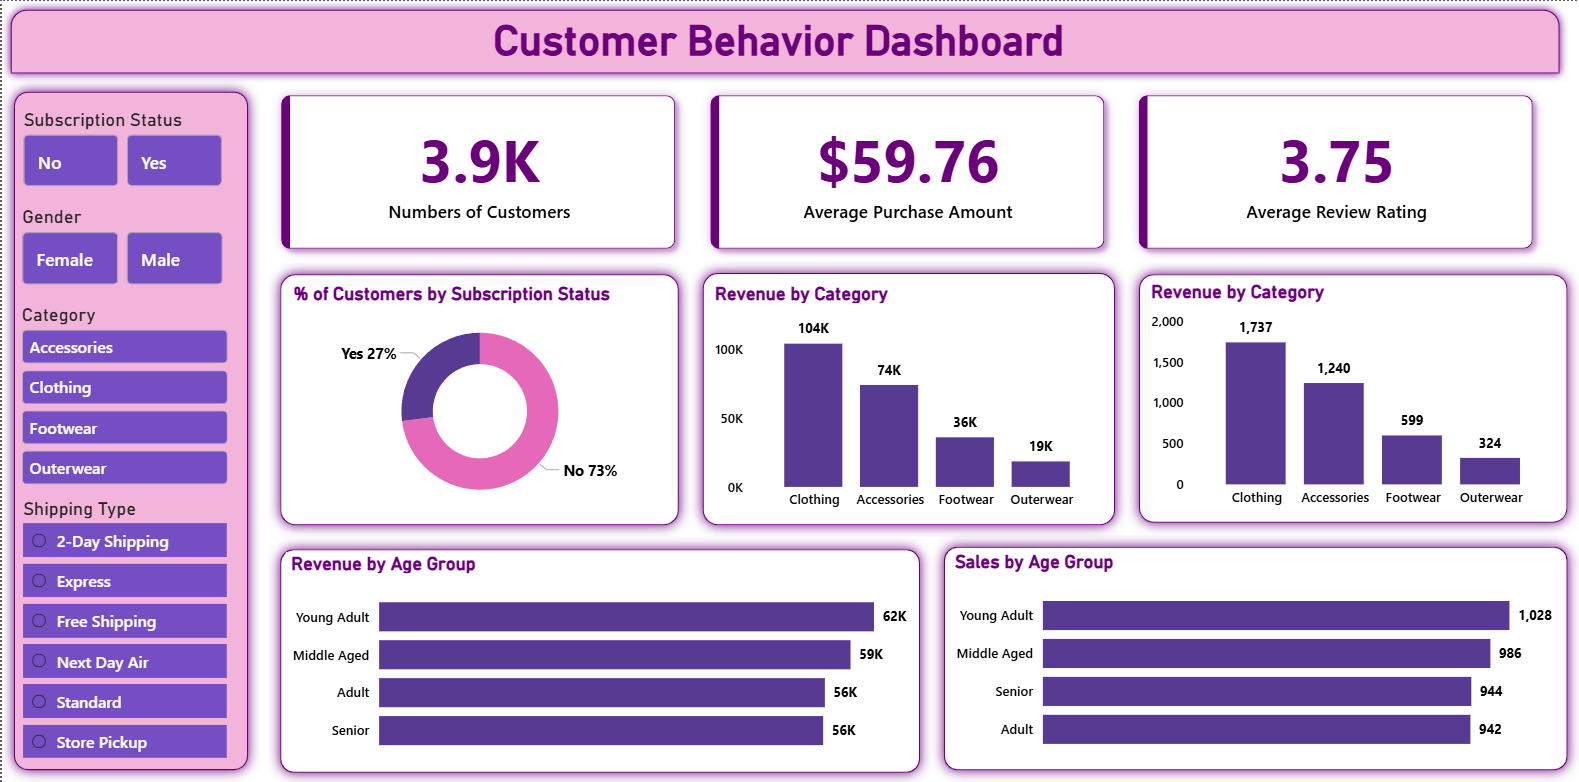

This screenshot's page, from the dashboard's own definition file:
{"tool":"powerbi","page":{"name":"Page 1","canvas":[1450,720],"ordinal":0},"visuals":[{"type":"cardVisual","fields":{"Data":["public customers.Numbers of Customers","public customers.Average Purchase Amount","public customers.Average Review Rating"]},"box":[244.7,74.7,1175.1,165.4],"z":0},{"type":"shape","box":[0,0,1439.3,74.7],"z":1000},{"type":"textbox","box":[8,9.2,1411.7,56.3],"z":2000},{"type":"shape","box":[244.7,240.1,388.3,252.7],"z":3000},{"type":"shape","box":[244.7,492.8,610,227.4],"z":4000},{"type":"shape","box":[0,72.4,237.1,645.4],"z":5000},{"type":"donutChart","title":"% of Customers by Subscription Status","fields":{"Category":["public customers.subscription_status"],"Y":["CountNonNull(public customers.customer_id)"]},"box":[263.1,258.5,352.7,218.3],"z":6000},{"type":"shape","box":[632.9,238.9,400.9,253.9],"z":7000},{"type":"shape","box":[1033.8,240.1,415.8,250.4],"z":8000},{"type":"shape","box":[854.6,490.5,595,227.4],"z":9000},{"type":"clusteredColumnChart","title":"Revenue by Category","fields":{"Y":["Sum(public customers.purchase_amount)"],"Category":["public customers.category"]},"box":[650.2,258.5,366.4,218.3],"z":10000},{"type":"clusteredColumnChart","title":"Revenue by Category","fields":{"Category":["public customers.category"],"Y":["CountNonNull(public customers.customer_id)"]},"box":[1051.1,257.3,380.2,217.1],"z":11000},{"type":"advancedSlicerVisual","fields":{"Values":["public customers.subscription_status"]},"box":[15.1,98.9,193.1,76.8],"z":12000},{"type":"advancedSlicerVisual","fields":{"Values":["public customers.gender"]},"box":[14,188.4,194.2,77.9],"z":13000},{"type":"advancedSlicerVisual","fields":{"Values":["public customers.category"]},"box":[18.6,278,189.6,177.9],"z":14000},{"type":"listSlicer","fields":{"Values":["public customers.shipping_type"]},"box":[19.8,455.9,200,239.6],"z":15000},{"type":"clusteredBarChart","title":"Revenue by Age Group","fields":{"Y":["Sum(public customers.purchase_amount)"],"Category":["public customers.age_group"]},"box":[260.8,507.1,576.9,197.6],"z":15001},{"type":"clusteredBarChart","title":"Sales by Age Group","fields":{"Y":["CountNonNull(public customers.customer_id)"],"Category":["public customers.age_group"]},"box":[870.7,505.8,561.1,197.6],"z":15002}]}

Visuals, with their boxes in screenshot pixels (x1, y1, x2, y2), scaled from the page's 1450x720 canvas onto the 1579x782 screenshot:
cardVisual - public customers.Numbers of Customers x public customers.Average Purchase Amount: box(266, 81, 1546, 261)
shape: box(0, 0, 1567, 81)
textbox: box(9, 10, 1546, 71)
shape: box(266, 261, 689, 535)
shape: box(266, 535, 931, 781)
shape: box(0, 79, 258, 780)
"% of Customers by Subscription Status" donutChart: box(287, 281, 671, 518)
shape: box(689, 259, 1126, 535)
shape: box(1126, 261, 1578, 533)
shape: box(931, 533, 1578, 780)
"Revenue by Category" clusteredColumnChart: box(708, 281, 1107, 518)
"Revenue by Category" clusteredColumnChart: box(1145, 279, 1559, 515)
advancedSlicerVisual - public customers.subscription_status: box(16, 107, 227, 191)
advancedSlicerVisual - public customers.gender: box(15, 205, 227, 289)
advancedSlicerVisual - public customers.category: box(20, 302, 227, 495)
listSlicer - public customers.shipping_type: box(22, 495, 239, 755)
"Revenue by Age Group" clusteredBarChart: box(284, 551, 912, 765)
"Sales by Age Group" clusteredBarChart: box(948, 549, 1559, 764)
